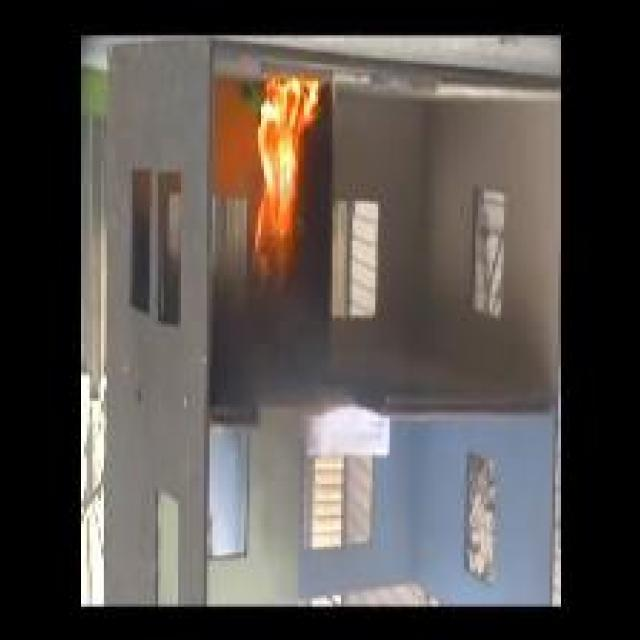Fire: (254, 77, 314, 280)
